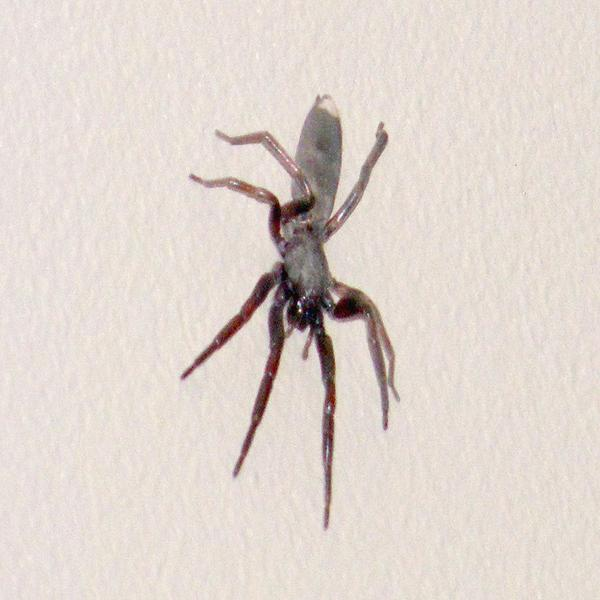White-Tailed Spider: (197, 94, 399, 517)
